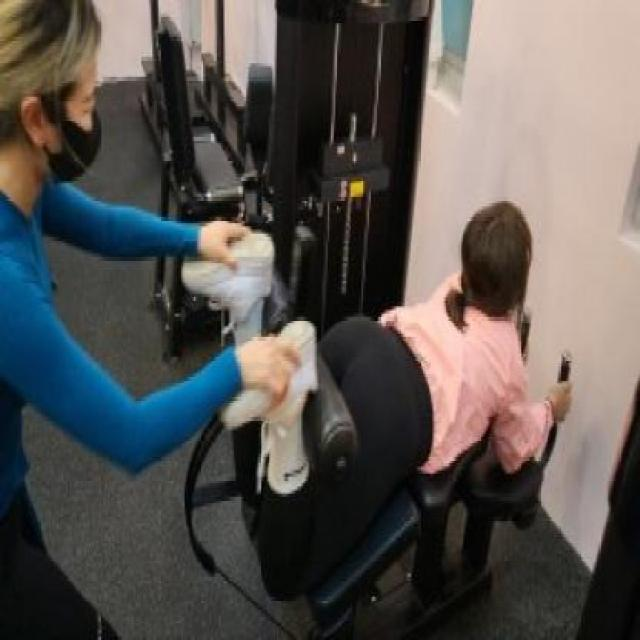reg curl machine: (178, 0, 574, 637)
